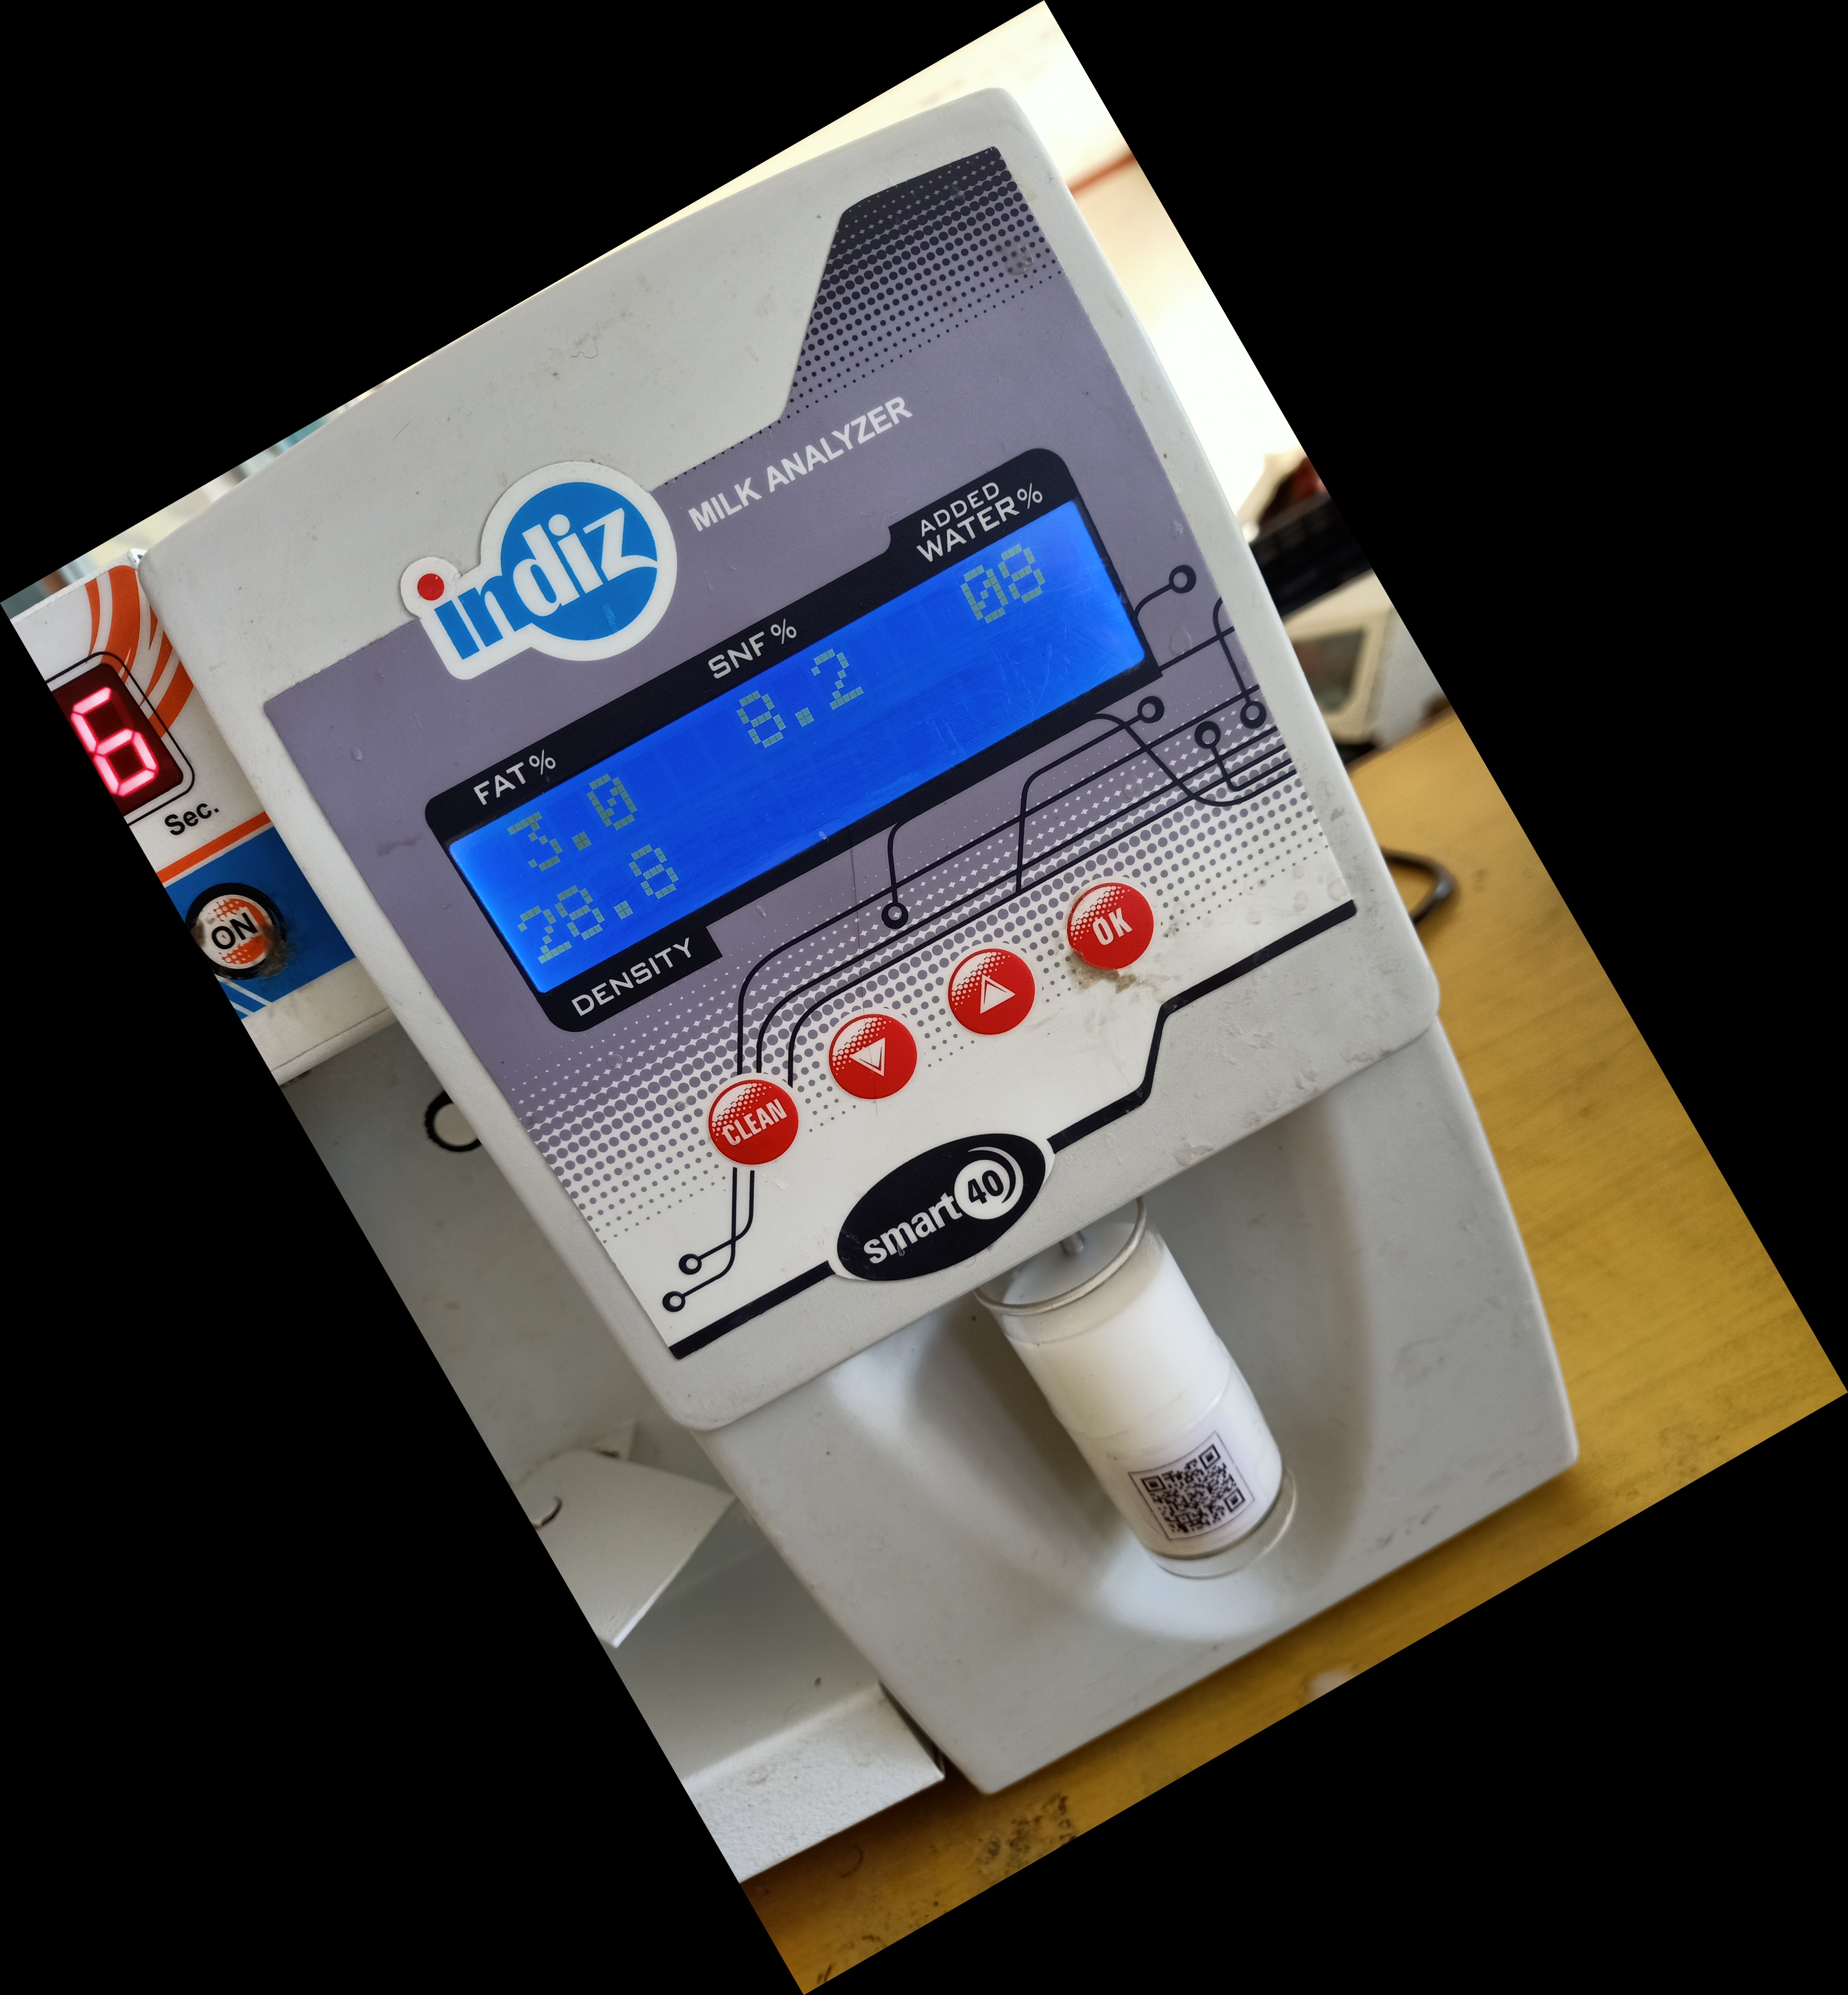lcd: (424, 415, 1163, 1050)
qr: (1116, 1423, 1259, 1569)
